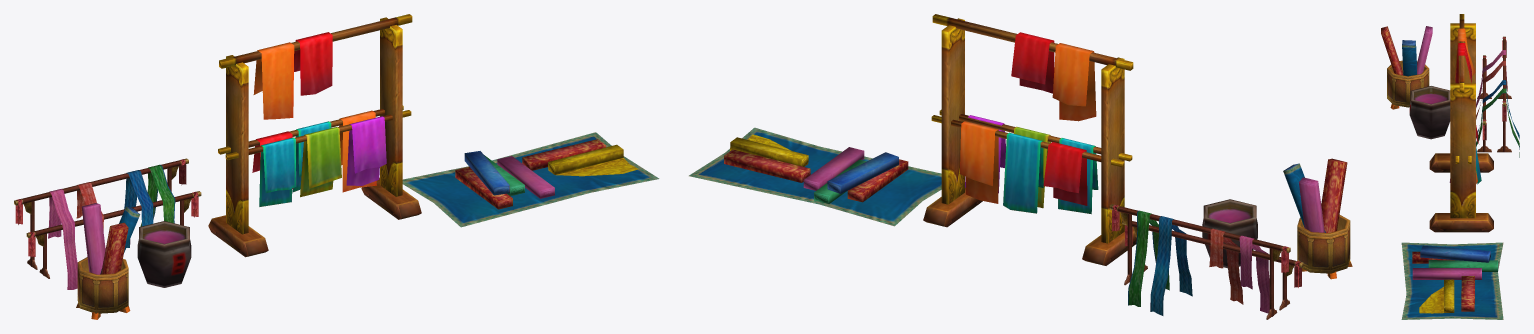
The model's file is xiao_tan_001.FBX.
3 renders of one model, left to right at view 1: azimuth 30°, elevation 25°; view 2: azimuth 150°, elevation 25°; view 3: azimuth 270°, elevation 25°, orthographic. The views are drawn at different scales.
Parts seen in each view (by area): view 1: xiao_tan_001_a, xiao_tan_001_b, xiao_tan_001_c, xiao_tan_001_e, xiao_tan_001_d; view 2: xiao_tan_001_a, xiao_tan_001_b, xiao_tan_001_c, xiao_tan_001_e, xiao_tan_001_d; view 3: xiao_tan_001_b, xiao_tan_001_a, xiao_tan_001_e, xiao_tan_001_d, xiao_tan_001_c.
Boxes of the visible parts, x1,y1,x2,y2 form: xiao_tan_001_a: (208, 14, 421, 257); xiao_tan_001_b: (402, 132, 659, 227); xiao_tan_001_c: (14, 158, 201, 289); xiao_tan_001_e: (76, 203, 140, 319); xiao_tan_001_d: (137, 221, 191, 287); xiao_tan_001_a: (923, 14, 1136, 265); xiao_tan_001_b: (689, 127, 941, 226); xiao_tan_001_c: (1109, 204, 1303, 319); xiao_tan_001_e: (1283, 158, 1352, 279); xiao_tan_001_d: (1202, 199, 1257, 268); xiao_tan_001_b: (1401, 242, 1503, 319); xiao_tan_001_a: (1429, 14, 1493, 232); xiao_tan_001_e: (1381, 26, 1432, 109); xiao_tan_001_d: (1409, 86, 1450, 139); xiao_tan_001_c: (1476, 36, 1519, 157).
Bounding box in the file's own units: 938 × 316 × 243.
1 material, 1 textured.
